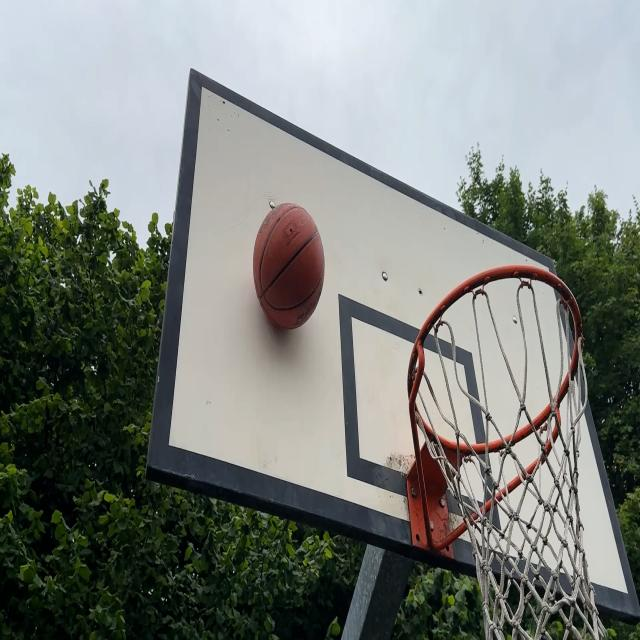rebound_hit: (253, 200, 324, 338)
